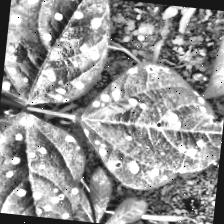Bean Rust: (80, 57, 224, 193), (0, 0, 121, 111), (0, 108, 86, 221)
